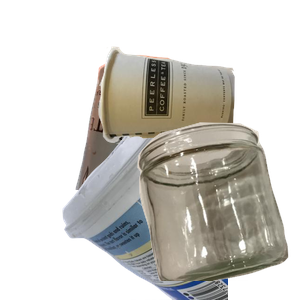glass: (135, 120, 300, 300)
metal: (73, 52, 263, 232)
plastic: (60, 120, 300, 300)
trash: (95, 44, 300, 180)
